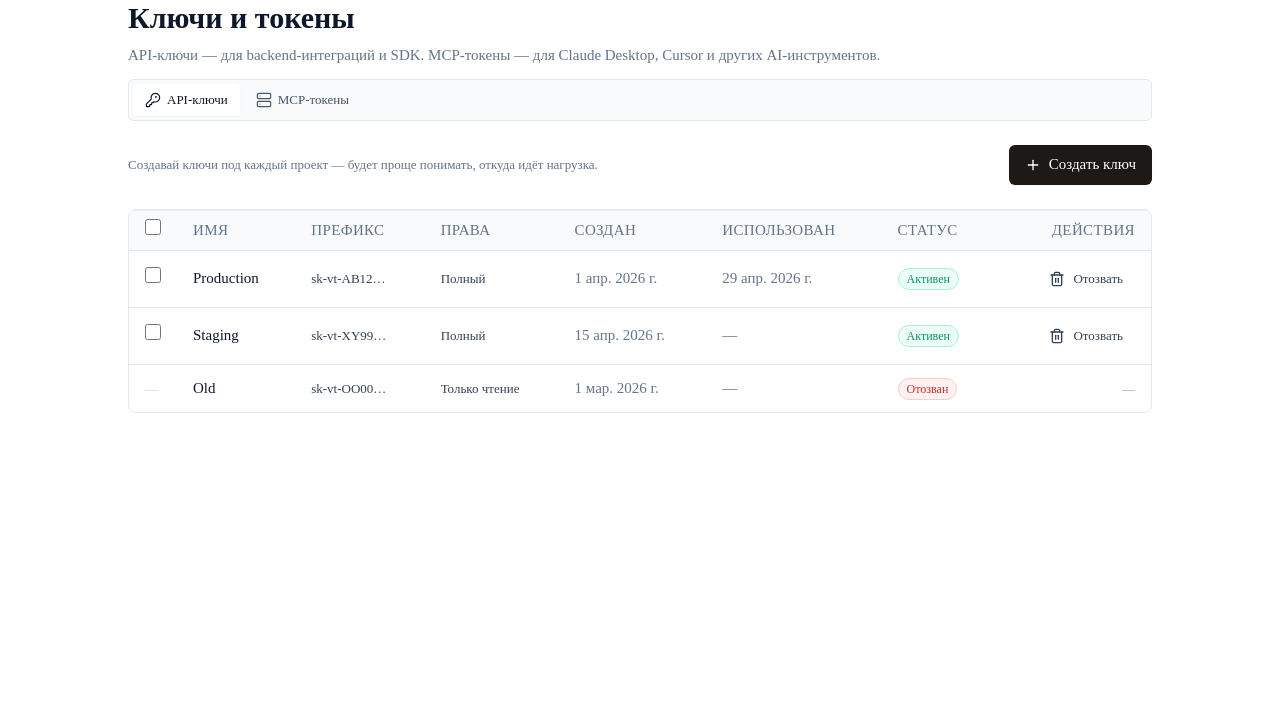
Test: KeysPage bulk operations (Sprint 8) › cancel в confirm dialog — закрывает диалог, не зовёт mutation
Click the checkbox with test id "select-key-k-1".
click(153, 275)  # box [145, 267, 161, 283]
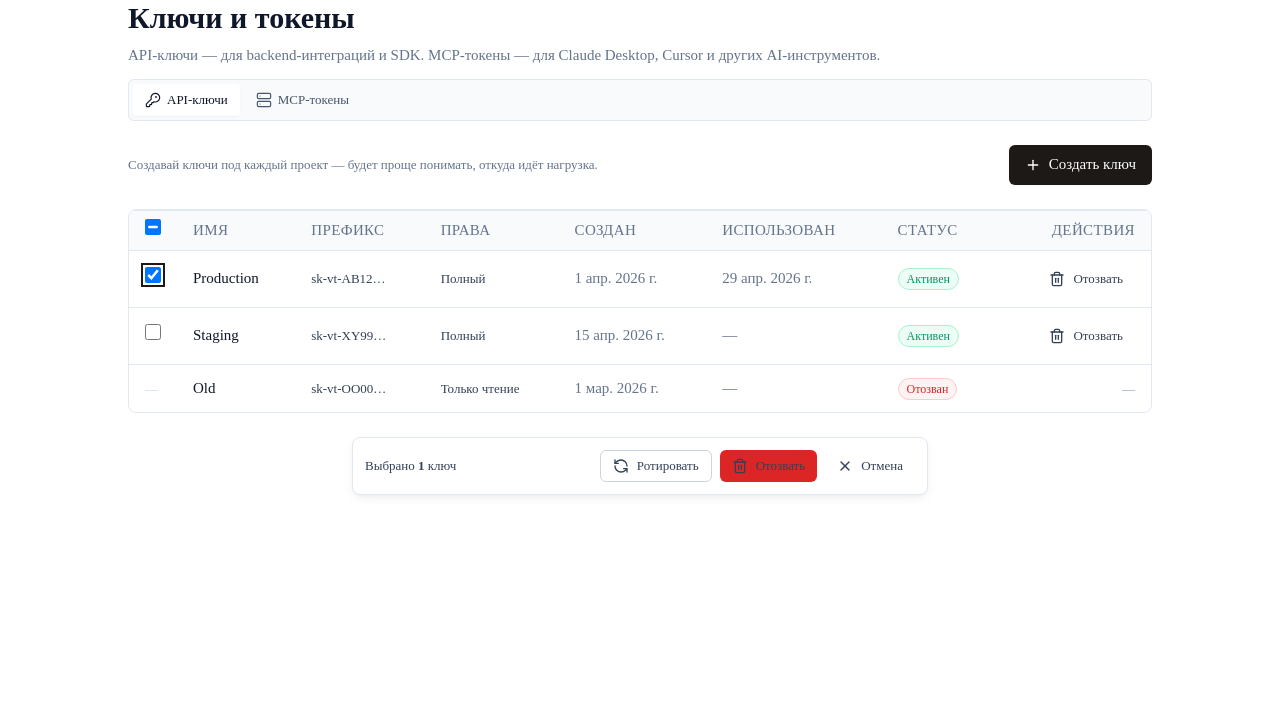
Click the button with test id "bulk-revoke".
click(768, 466)  # box [720, 450, 817, 482]
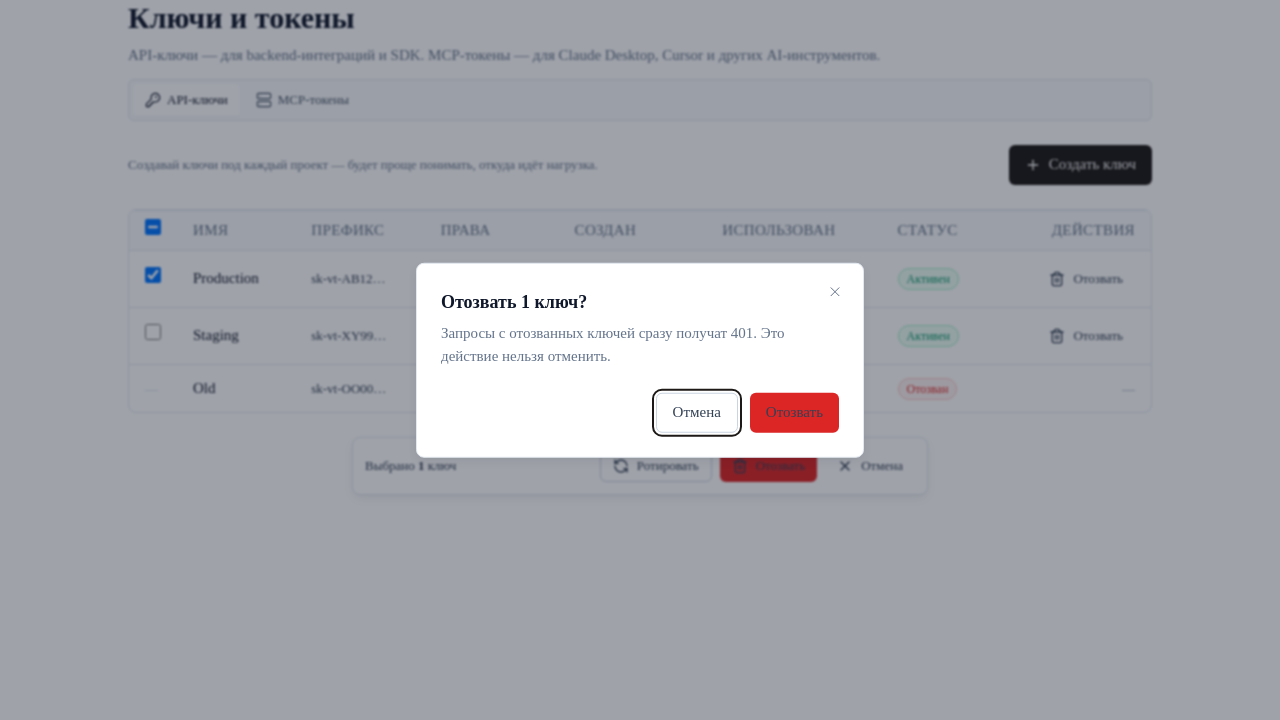
Now the dialog with test id "bulk-confirm-dialog" is shown, box [416, 263, 864, 457]
Click the button "Отмена".
click(697, 412)  # box [656, 392, 738, 432]
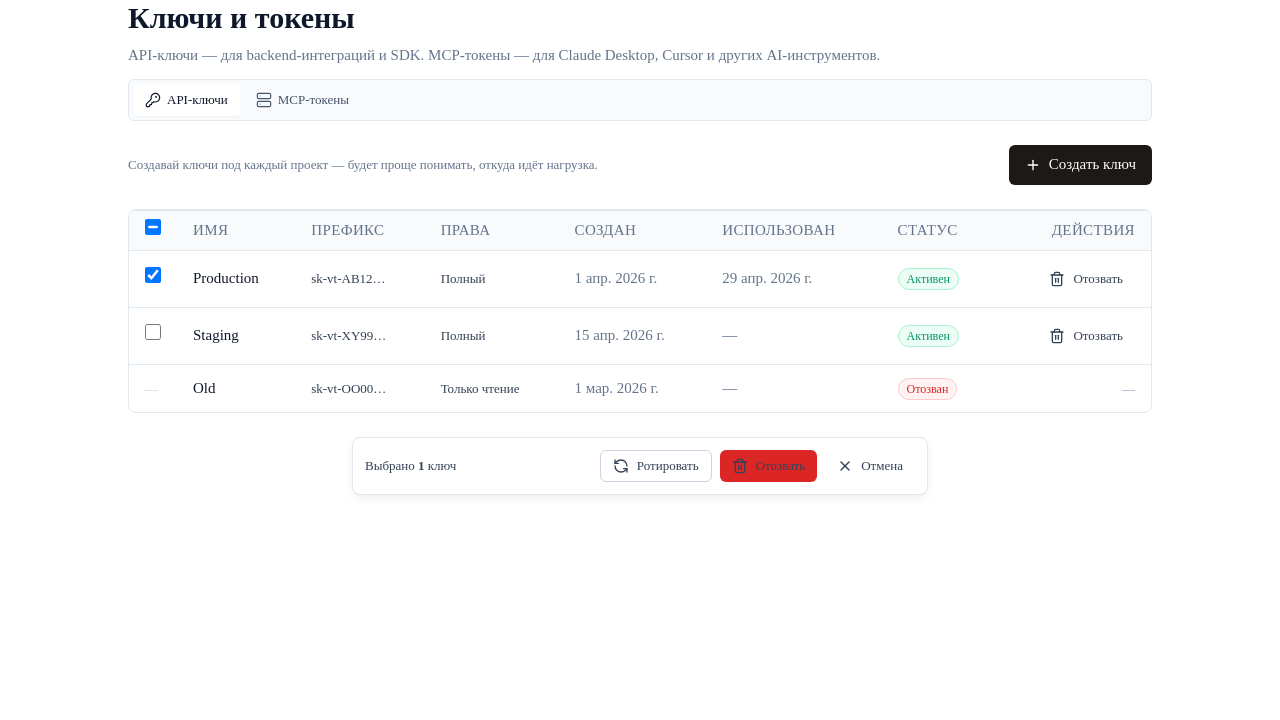
Now the dialog with test id "bulk-confirm-dialog" is gone
